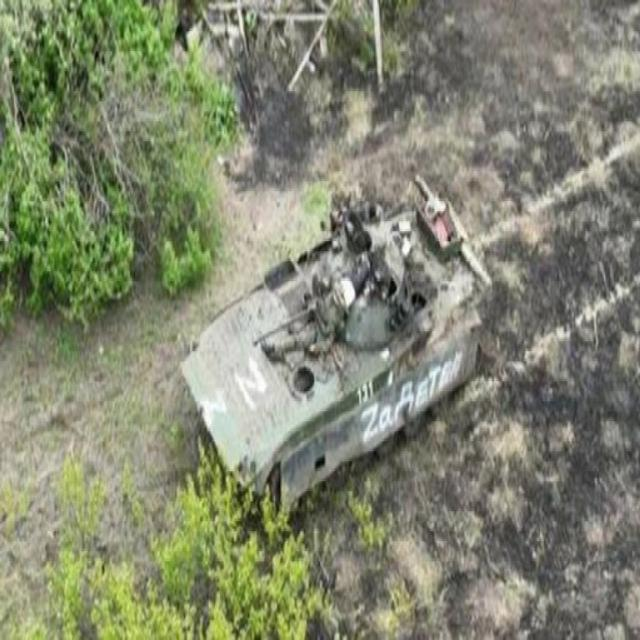APC-IFV: (176, 178, 486, 520)
